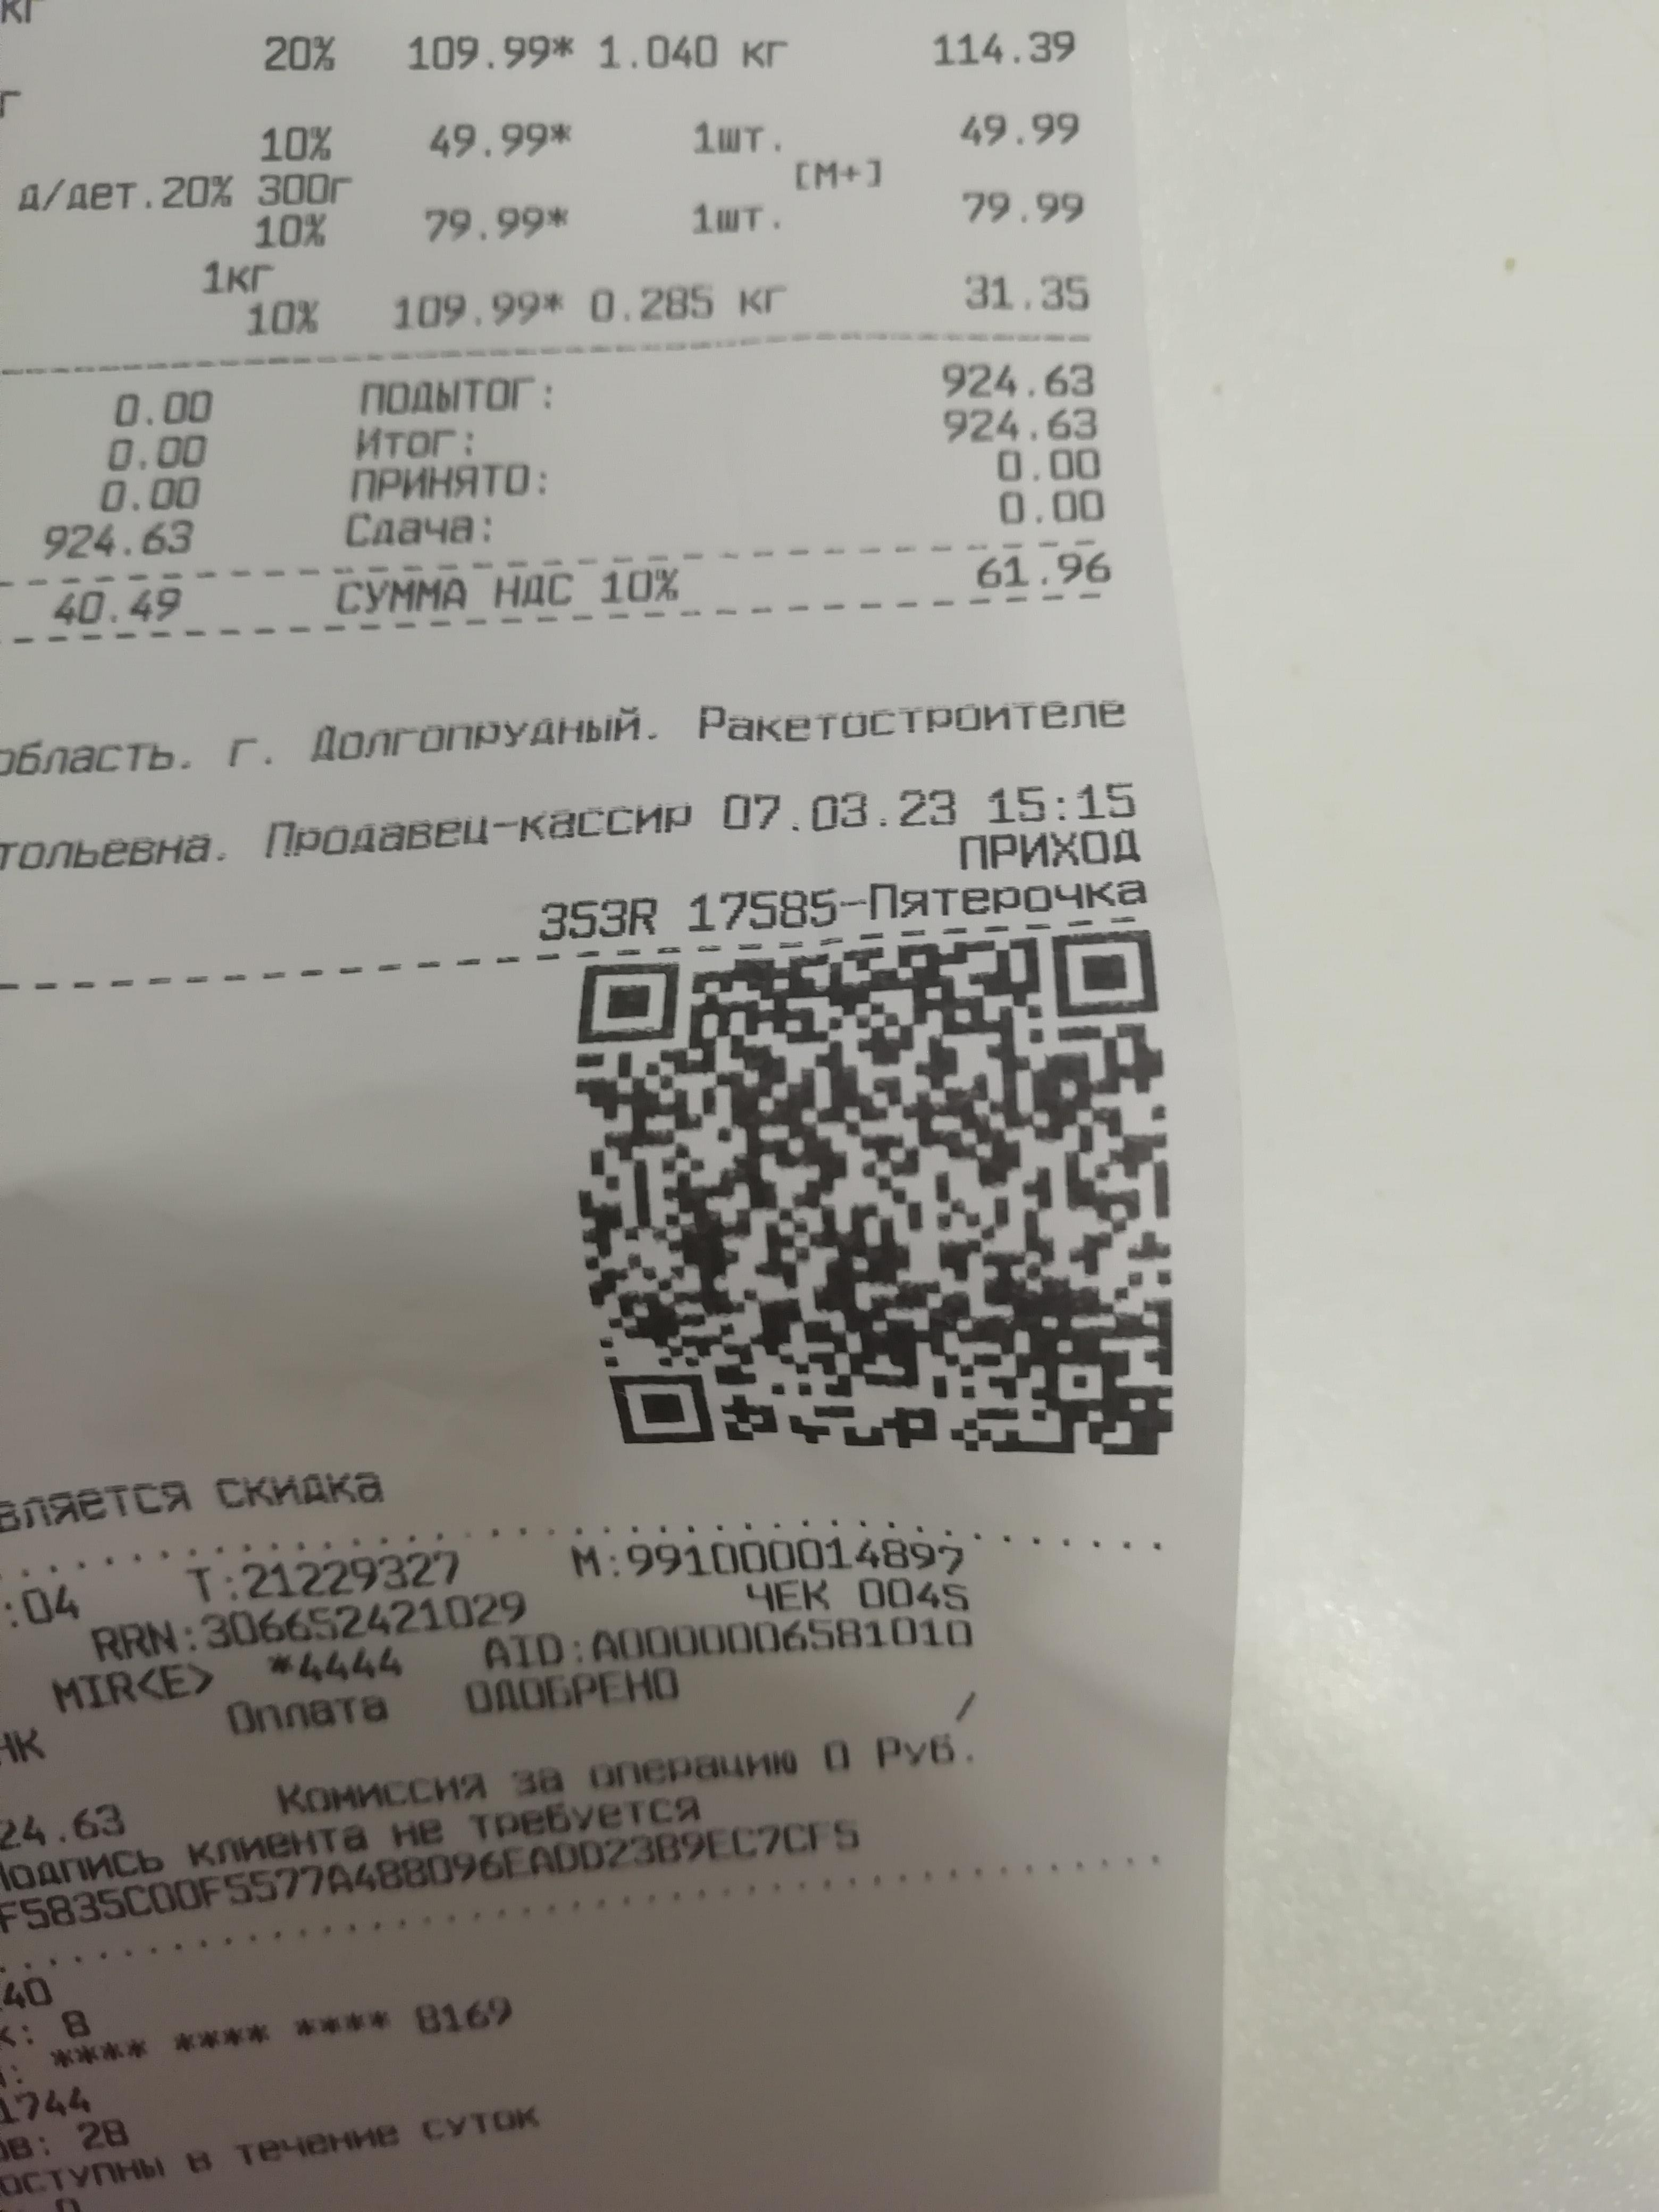qrcode: (575, 928, 1182, 1458)
